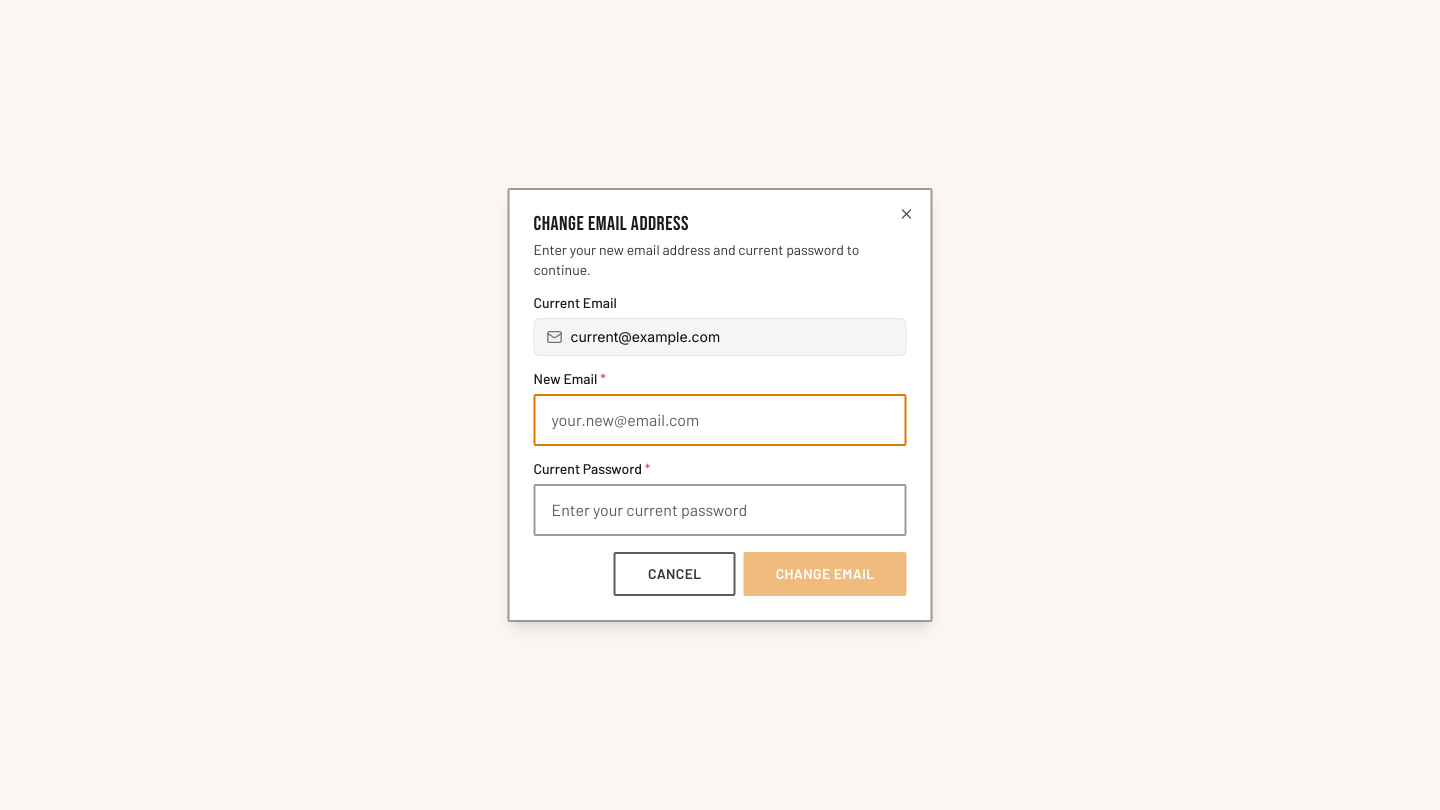
Test case: EmailChangeForm › Form Interactions › should enable submit button when form is dirty
This screenshot has width=1440, height=810.
Expected: the button "Change Email" is disabled, [744, 552, 906, 596]
Type "new@example.com" into the field labelled "New Email *" at (720,420), box [534, 394, 906, 446]
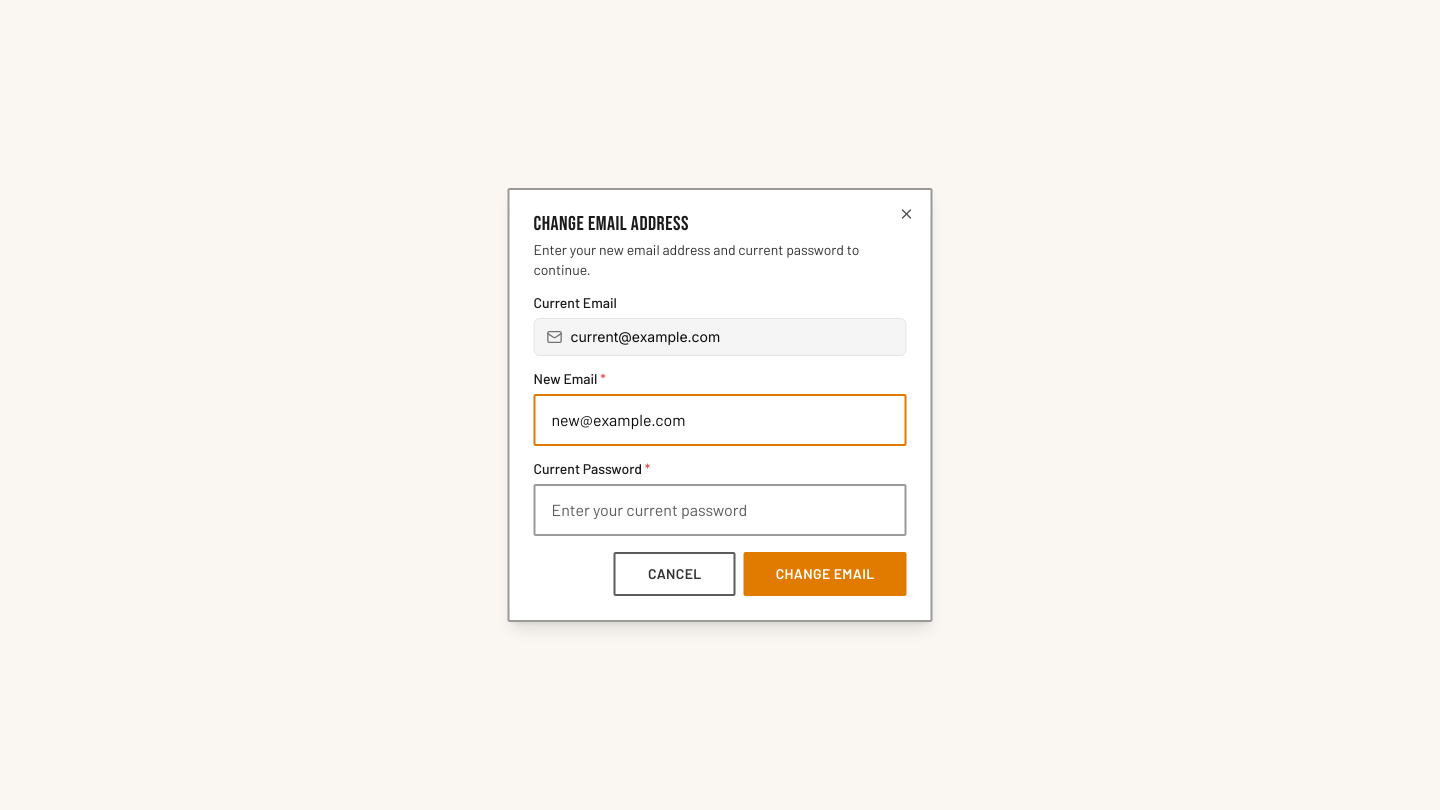
Expected: the button "Change Email" is enabled, [744, 552, 906, 596]
